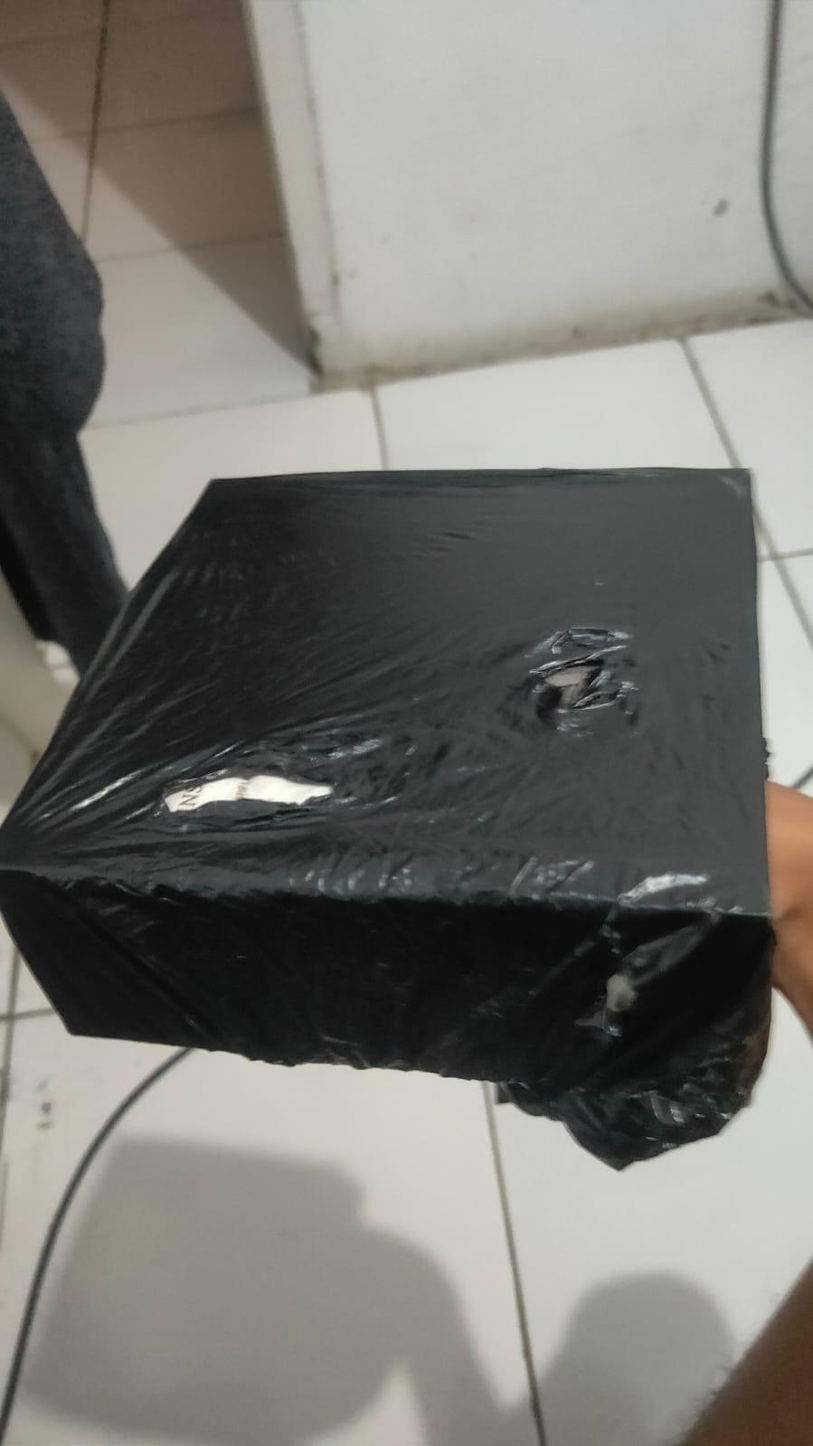damaged package: (151, 765, 339, 819), (534, 640, 636, 709), (582, 941, 650, 1027)
undamaged: (0, 452, 786, 1180)
